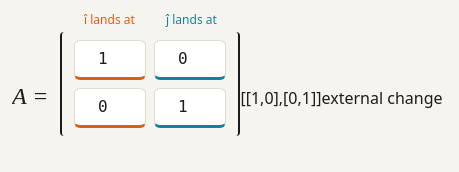
it: MatrixInput › flags invalid text and keeps the last valid value
This screenshot has width=459, height=172.
Step 1. Clear the number field named "A row 1, column 1" → (110, 60), box [74,40,146,80]
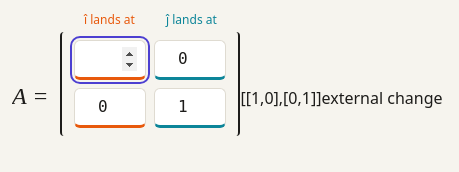
Expected: the text with test id "value" reads "[ [1,0],[0,1]]", [240,87,322,109]
Now the number field named "A row 1, column 1" is marked as invalid, box [74,40,146,80]
Step 2. Press Tab
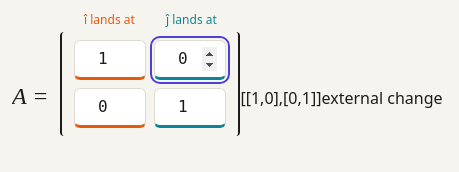
Now the number field named "A row 1, column 1" holds "1", box [74,40,146,80]
